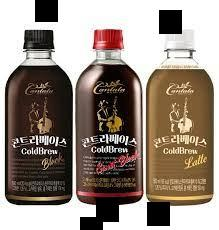contrabass_sweetblack: (71, 27, 146, 207)
